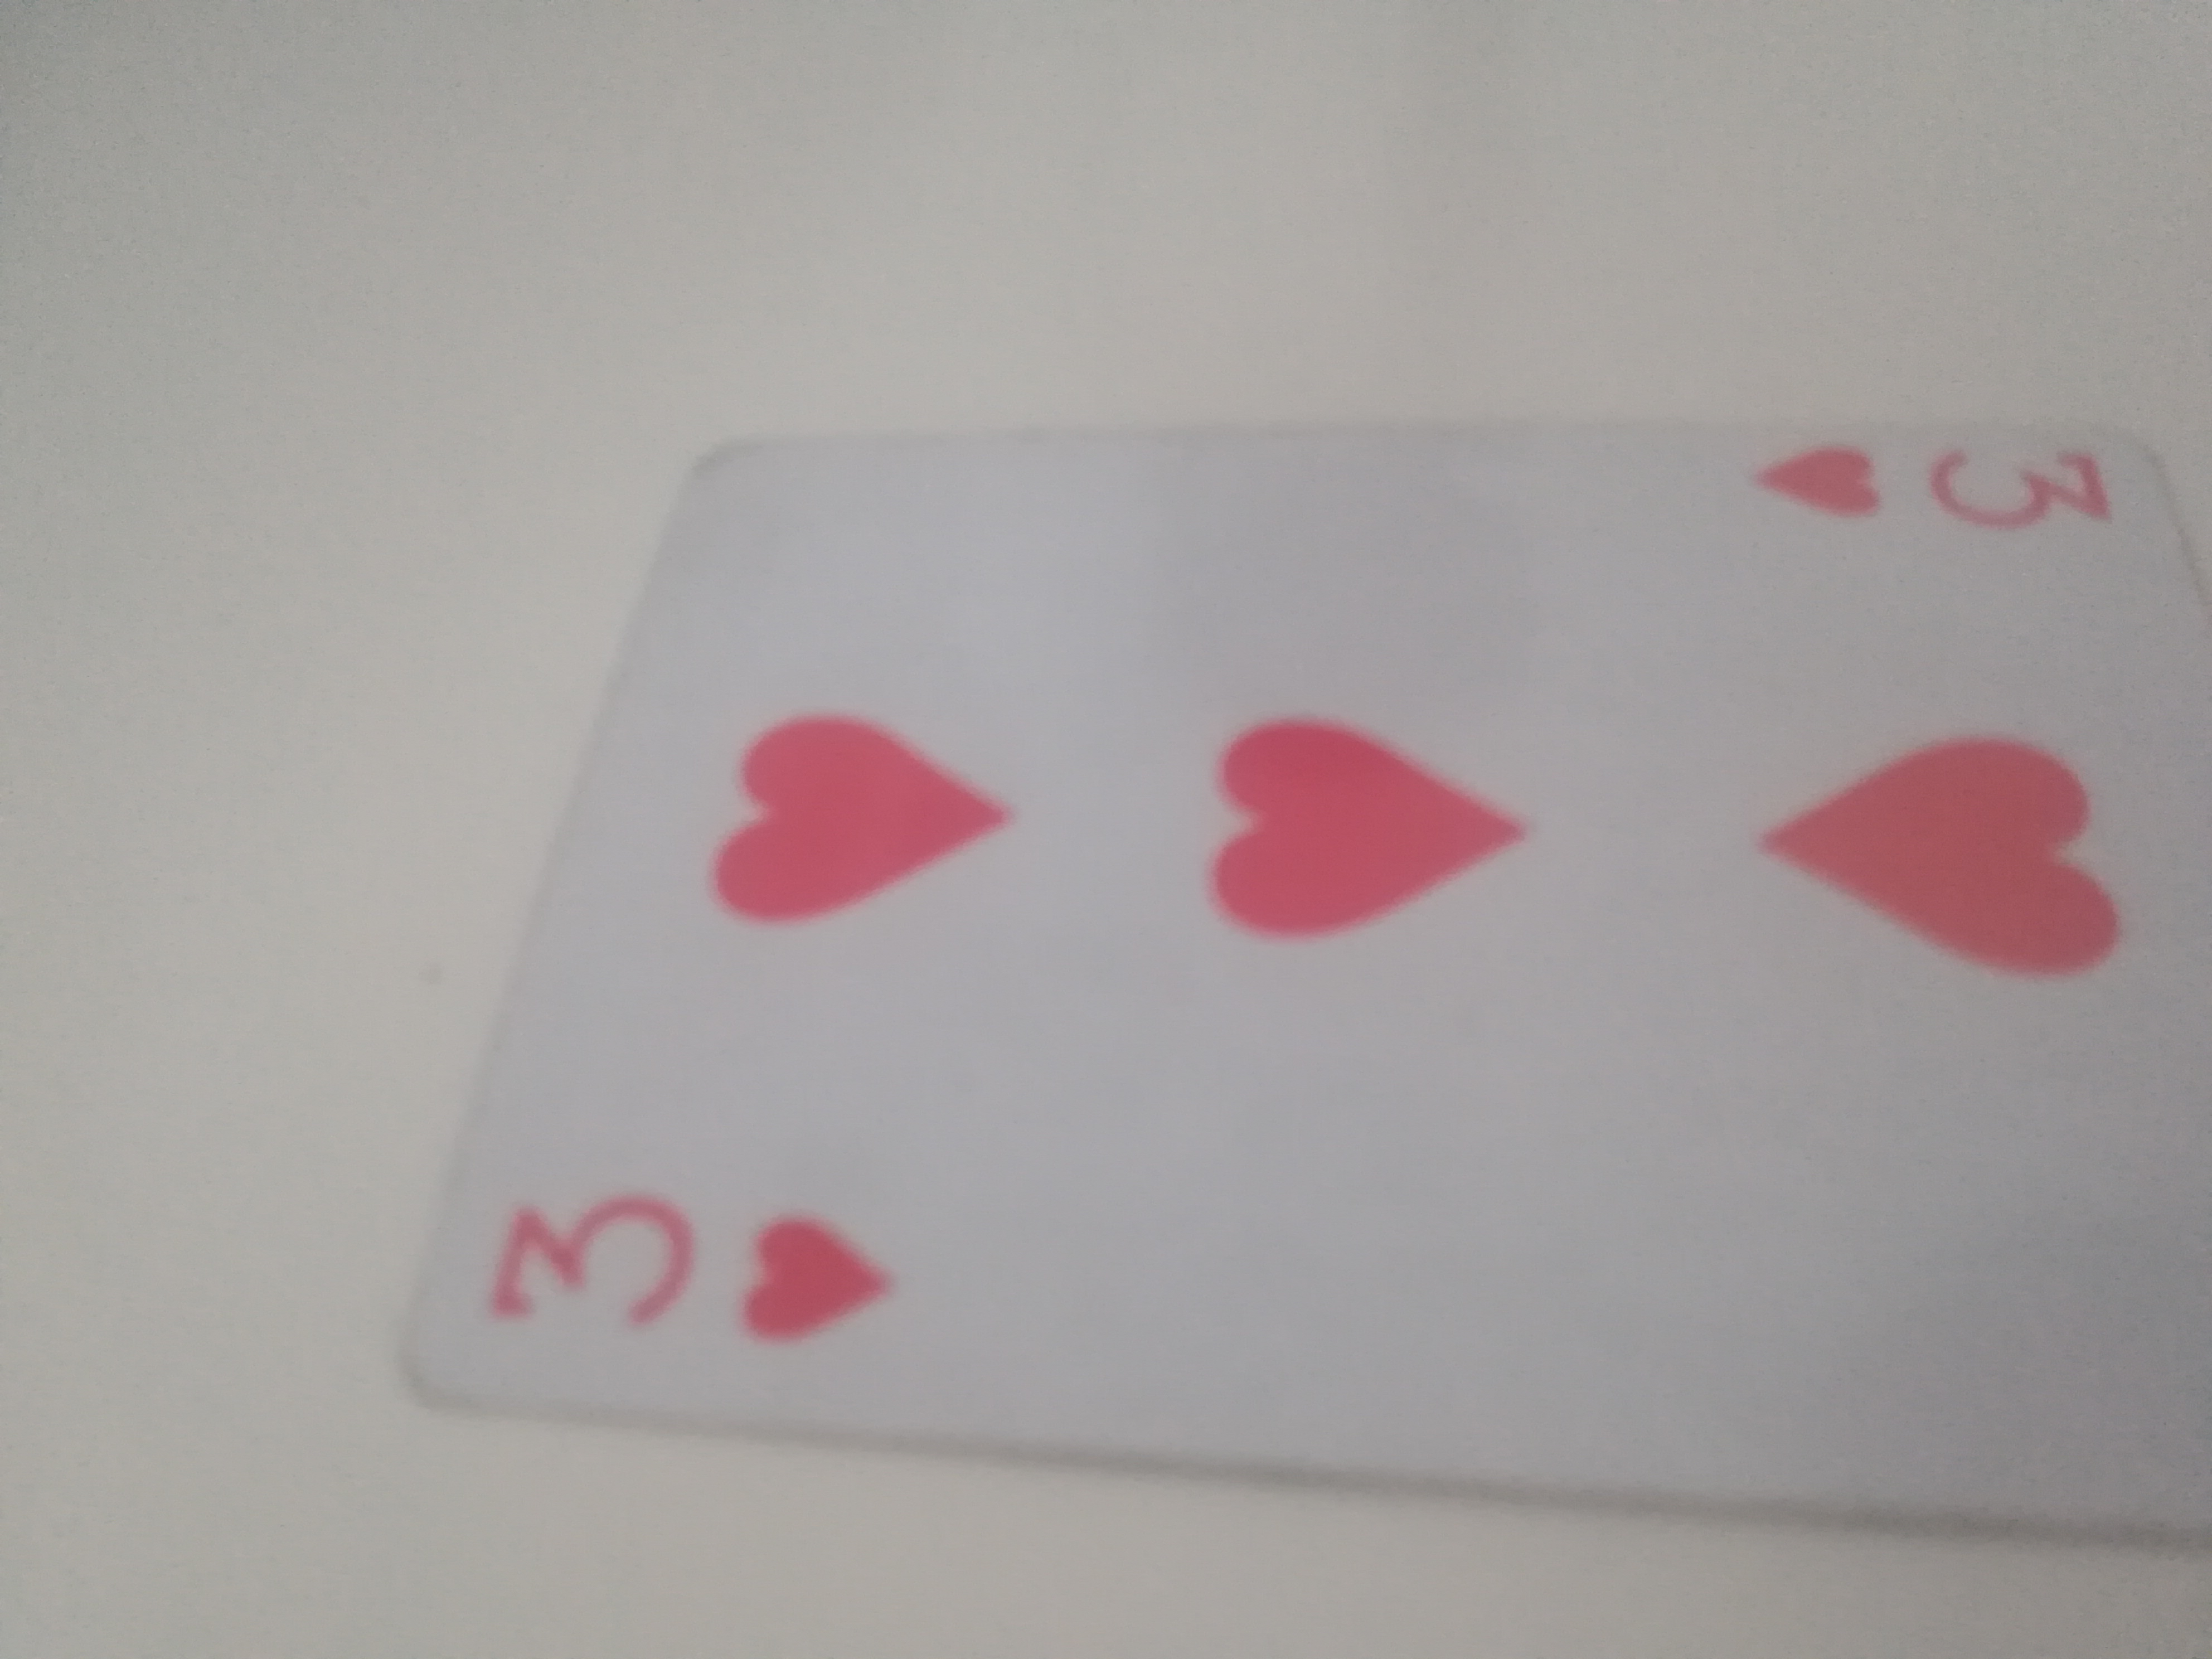3H: (411, 422, 2212, 1563)
